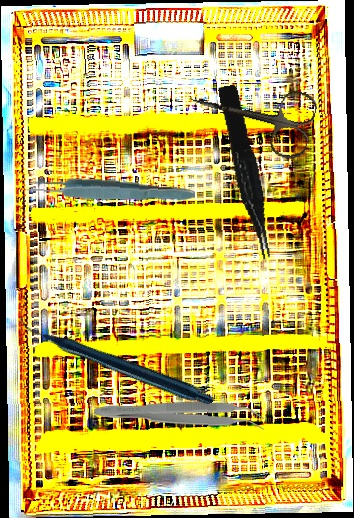Handpiece: (18, 252, 216, 466)
Iris Scissors: (182, 65, 320, 163)
Tissue Forceps: (217, 83, 275, 262), (94, 399, 265, 432), (25, 174, 196, 206)
